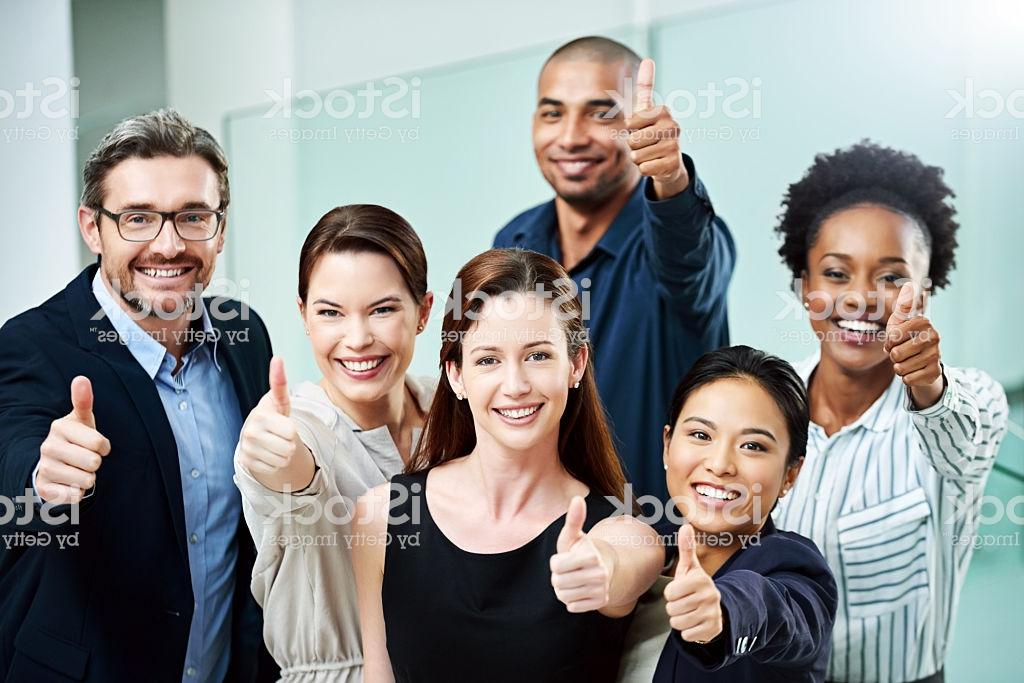thumbsup: (33, 374, 116, 508), (621, 56, 683, 182), (237, 354, 299, 476), (549, 495, 610, 617), (662, 522, 722, 646), (882, 280, 942, 388)
